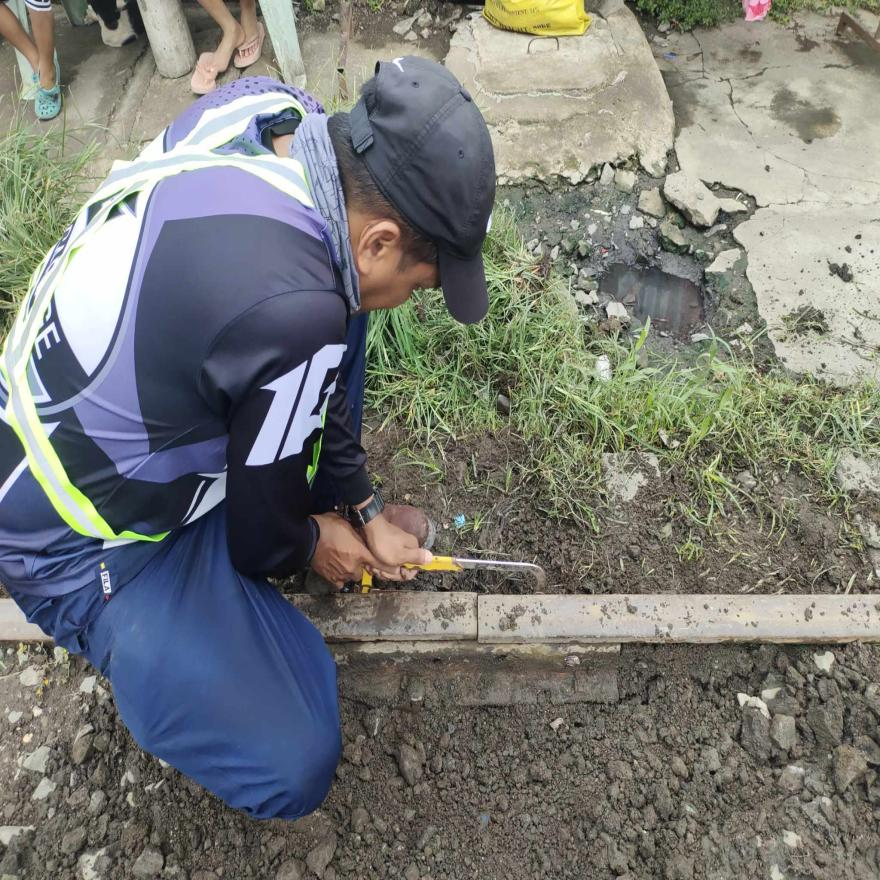railway-gap: (446, 574, 512, 664)
